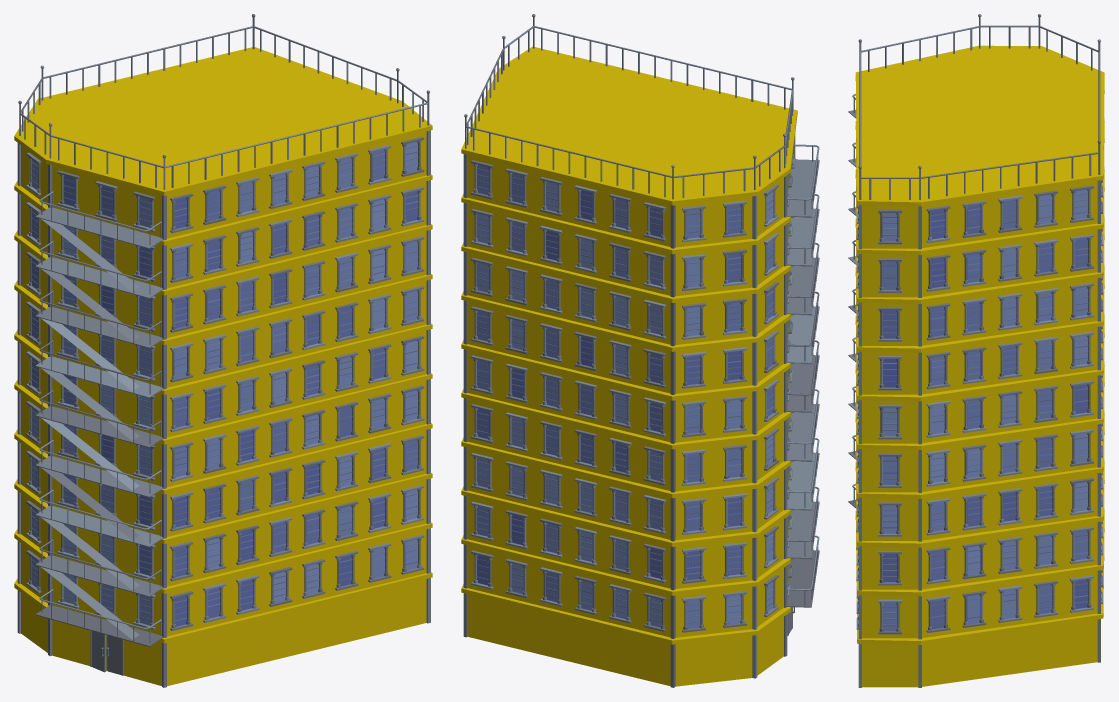
Rendered from Building Procedural.023.fbx.
The picture shows the model from 3 angles, left to right: view 1: azimuth 30°, elevation 25°; view 2: azimuth 150°, elevation 25°; view 3: azimuth 270°, elevation 25°; orthographic projection. The views are drawn at different scales.
Parts seen in each view (by area): view 1: Building Procedural.023; view 2: Building Procedural.023; view 3: Building Procedural.023.
Part boxes in pixels (box(x1,y1,x2,y2)): Building Procedural.023: box(14, 14, 432, 687); Building Procedural.023: box(461, 14, 819, 687); Building Procedural.023: box(848, 14, 1104, 687).
Size of the model in its own units: 2168 by 3210 by 1430.
